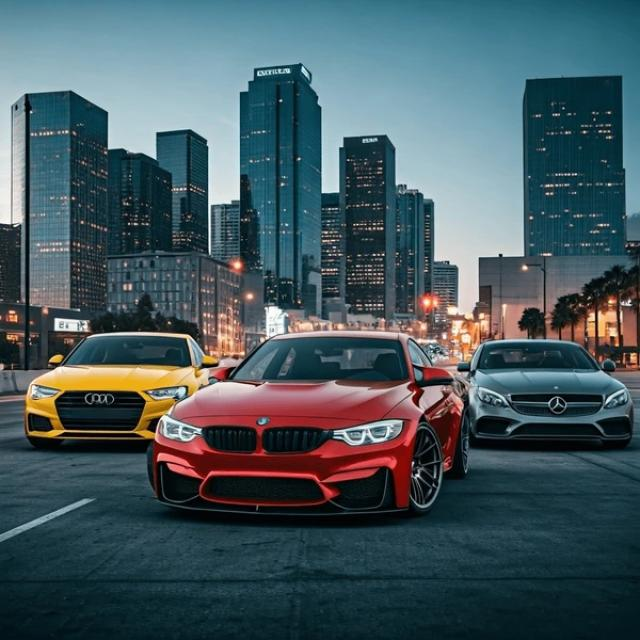audi: (83, 392, 118, 406)
bmw: (257, 416, 270, 426)
mercedes: (550, 396, 564, 415)
